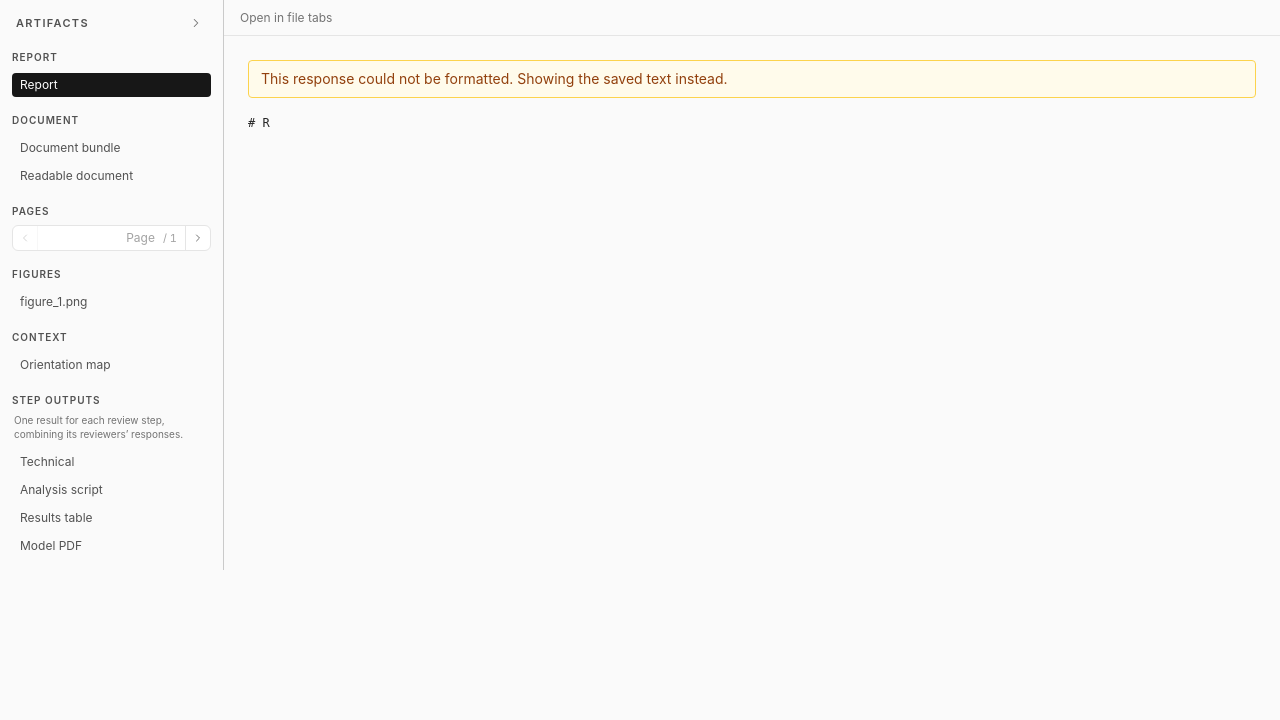
Test case: ArtifactExplorer › shows every document artifact group and renders a human-readable bundle inspection
The image size is (1280, 720).
Expected: the heading "Document" is shown, [12,114,79,126]
Expected: the heading "Pages" is shown, [12,205,50,217]
What coordinates should you click on to do the following:
click the button "Document bundle"
I would click on:
 (112, 148)
Its box is [12,136,211,160].
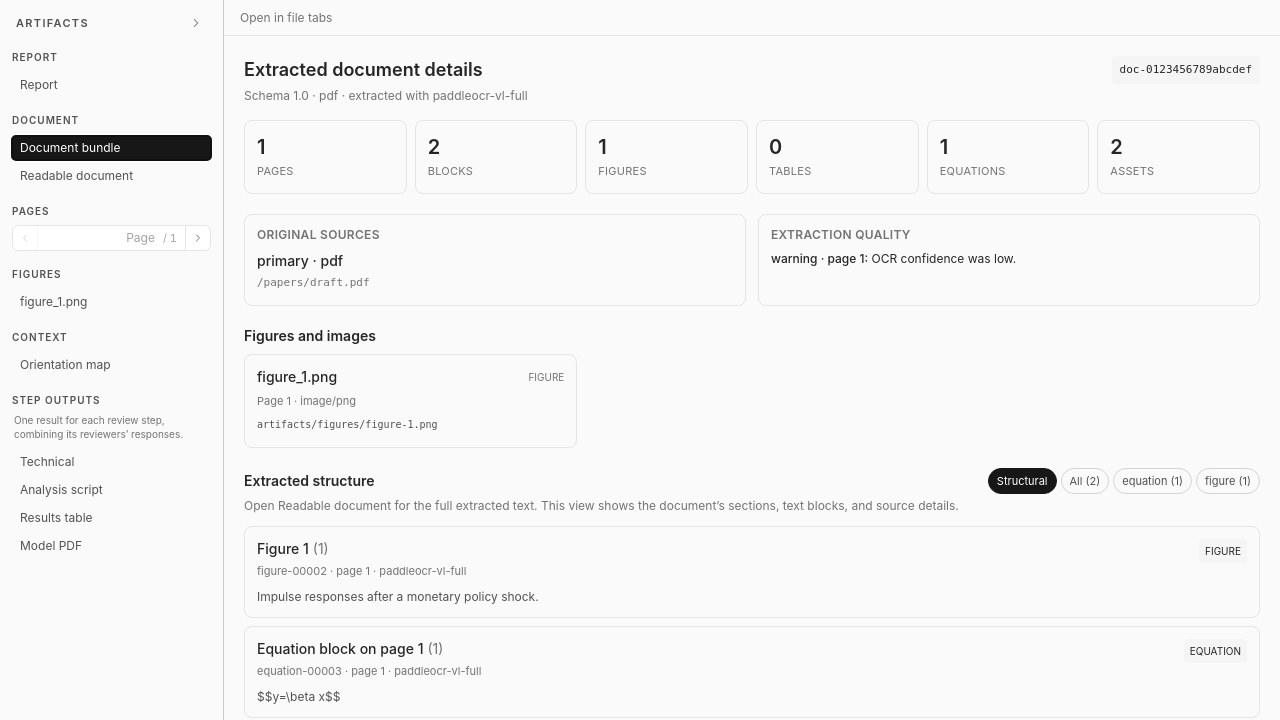
Expected: the heading "Extracted document details" is shown, [244,59,483,80]
Expected: the text "Impulse responses after a monetary policy shock." is shown, [257,589,539,604]
Expected: the list item "OCR confidence was low." is shown, [872,251,1016,266]
